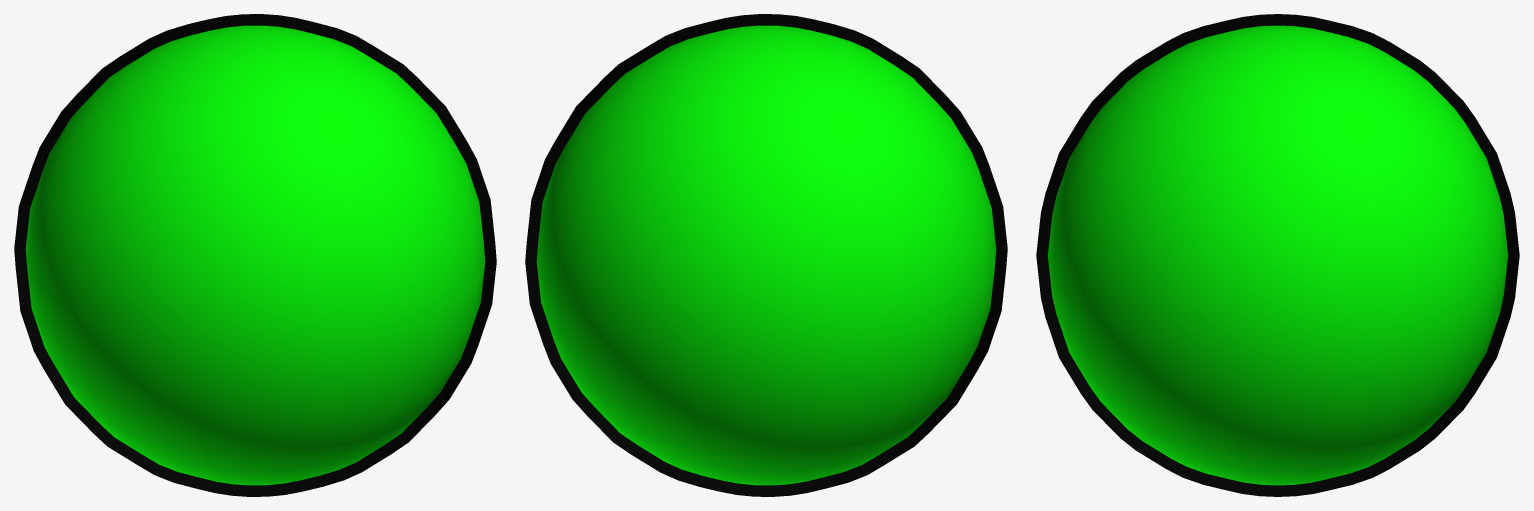
File: head.fbx
3 renders of one model, left to right at view 1: azimuth 30°, elevation 25°; view 2: azimuth 150°, elevation 25°; view 3: azimuth 270°, elevation 25°, orthographic.
Parts seen in each view (by area): view 1: Sphere; view 2: Sphere; view 3: Sphere.
Part boxes in pixels (box(x1,y1,x2,y2)): Sphere: box(14, 14, 496, 496); Sphere: box(525, 14, 1007, 496); Sphere: box(1036, 14, 1519, 496).
Bounding box in the file's own units: 210 × 210 × 210.
